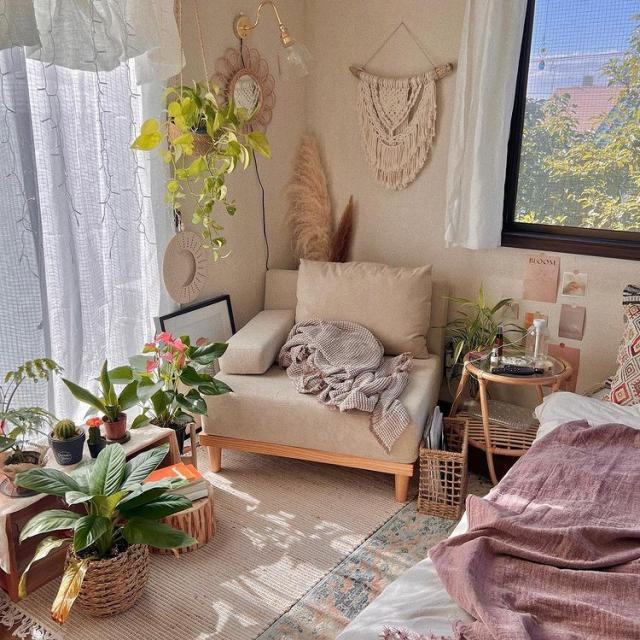vintage sofa: (198, 252, 444, 505)
